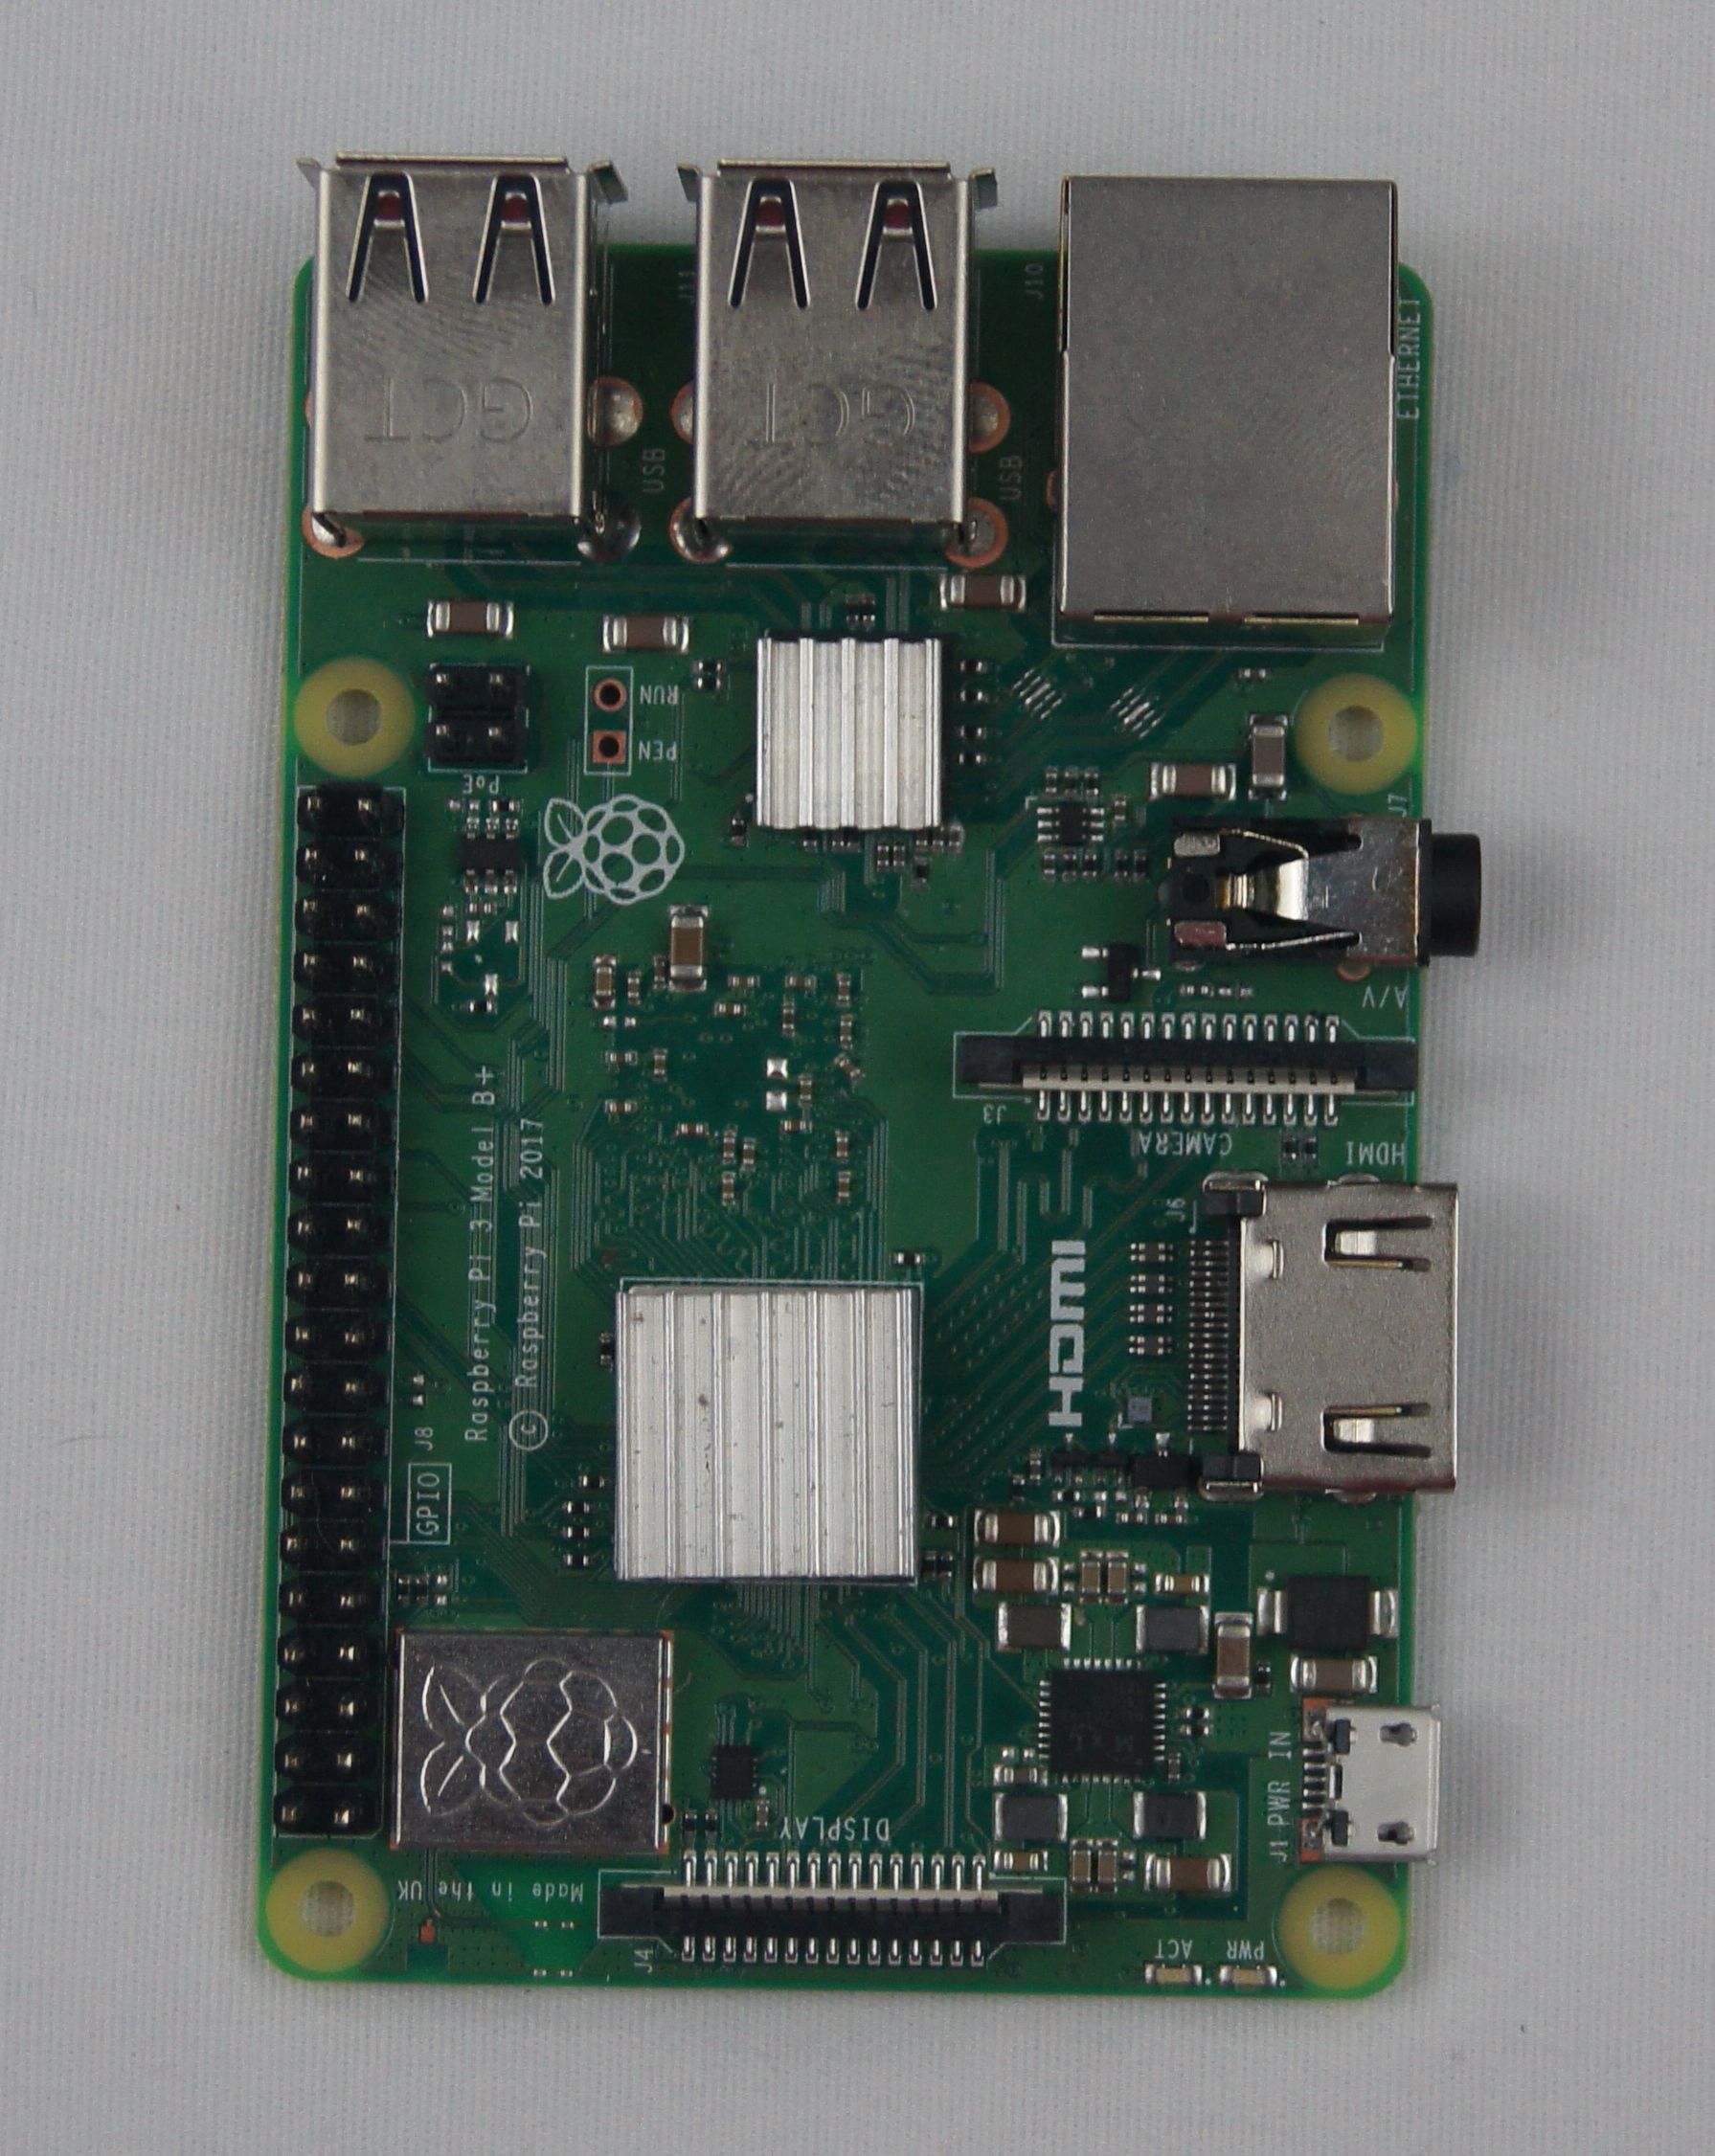resistor: (957, 719, 989, 742), (679, 1806, 698, 1843), (728, 817, 749, 849), (413, 1571, 430, 1608), (464, 999, 501, 1017), (693, 670, 721, 693), (889, 1249, 927, 1265), (1083, 768, 1102, 800), (1277, 1132, 1297, 1164), (560, 1522, 591, 1542), (392, 1573, 411, 1605), (927, 1510, 959, 1529), (1130, 849, 1150, 880), (938, 1549, 955, 1582), (1179, 1706, 1213, 1724), (490, 796, 523, 814), (597, 1330, 612, 1367), (1060, 850, 1080, 880), (702, 1808, 721, 1837), (919, 1549, 934, 1584), (1255, 1662, 1272, 1694), (1113, 850, 1130, 882), (959, 686, 987, 705), (914, 856, 929, 889), (576, 1473, 605, 1491), (1081, 850, 1099, 880), (563, 1550, 590, 1570), (1050, 1487, 1081, 1503), (1176, 1722, 1211, 1736), (563, 1498, 593, 1514), (1069, 1503, 1102, 1517), (961, 658, 987, 675), (1302, 1136, 1319, 1162), (1010, 1473, 1027, 1500), (693, 660, 723, 672), (957, 752, 985, 765)
